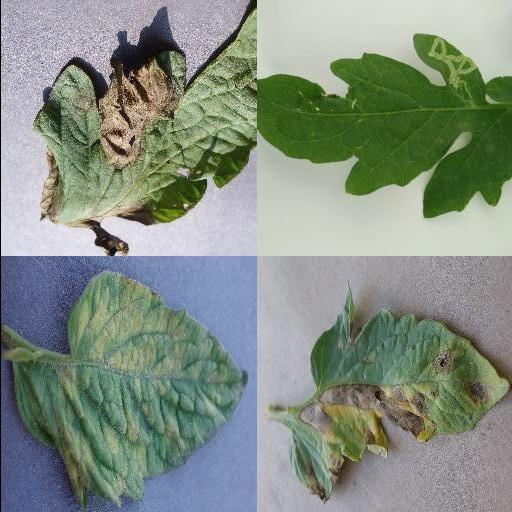Early Blight: (288, 287, 510, 502)
Late Blight: (32, 4, 256, 256)
Leaf Miner: (257, 31, 512, 219)
Leaf Mold: (0, 273, 248, 509)
